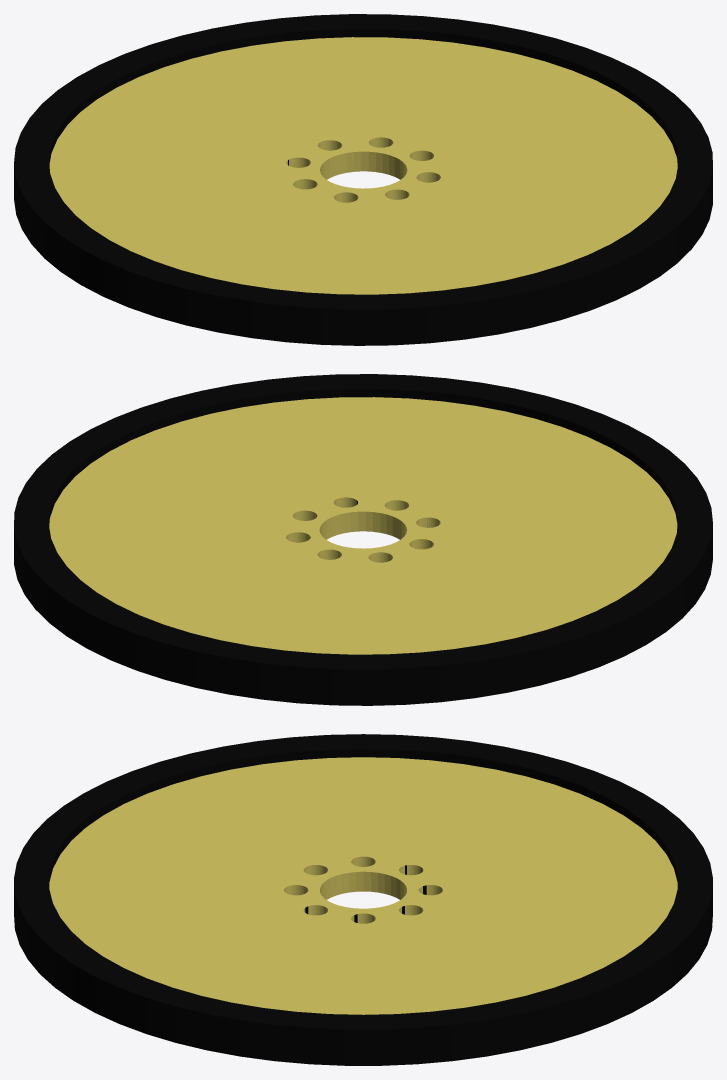
3 views of the same model, one above another, from view 1: azimuth 30°, elevation 25°; view 2: azimuth 150°, elevation 25°; view 3: azimuth 270°, elevation 25° (orthographic).
Parts seen in each view (by area): view 1: ROB-12107; view 2: ROB-12107; view 3: ROB-12107.
Part boxes in pixels (left/top/right/bottom): ROB-12107: left=14, top=14, right=712, bottom=345; ROB-12107: left=14, top=374, right=712, bottom=705; ROB-12107: left=14, top=734, right=712, bottom=1065.
Bounding box in the file's own units: 102 × 102 × 5.84.
